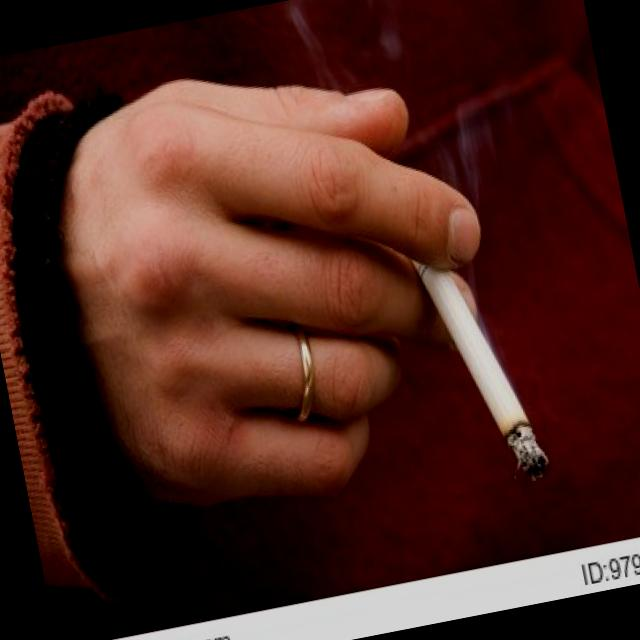smoke: (388, 183, 561, 512)
